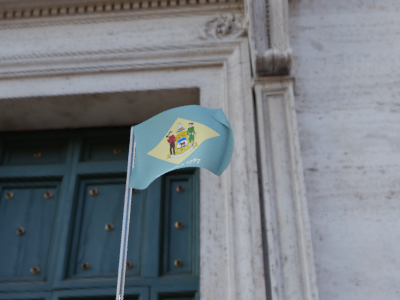Delaware flag: (129, 104, 234, 190)
